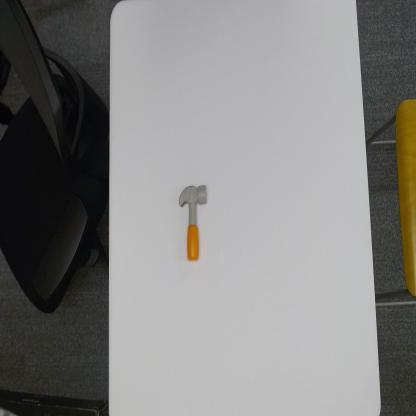Hammer: (177, 181, 209, 263)
